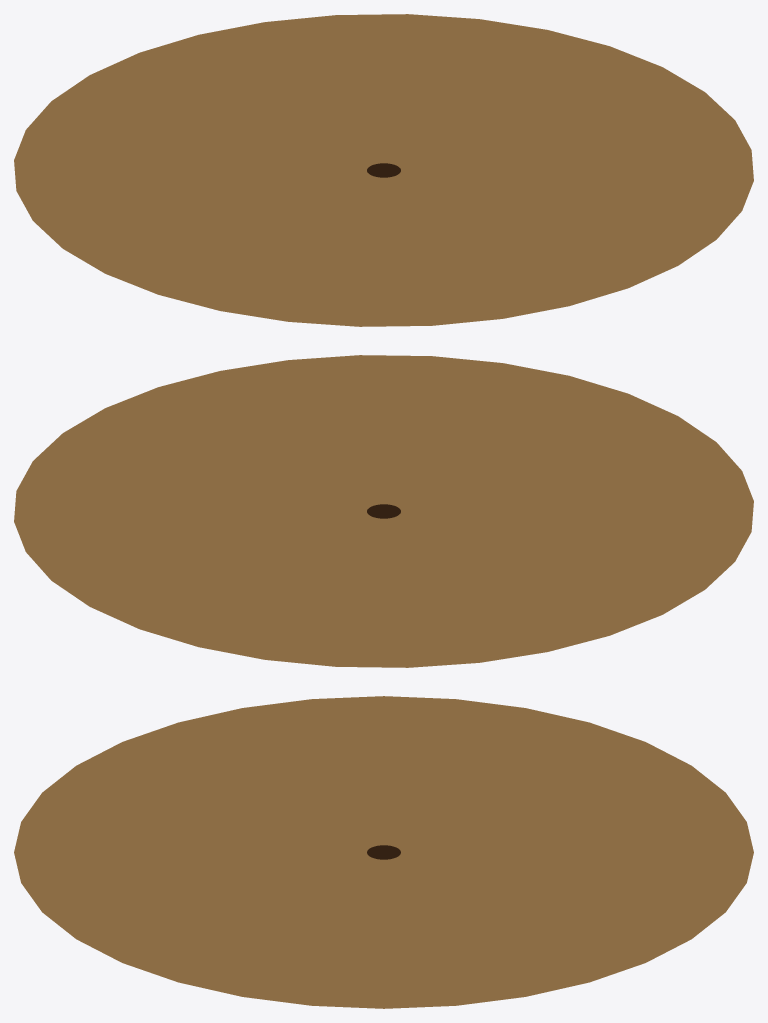
Rendered from floor_walkable.fbx.
3 renders of one model, top to bottom at view 1: azimuth 30°, elevation 25°; view 2: azimuth 150°, elevation 25°; view 3: azimuth 270°, elevation 25°, orthographic.
Visible parts, largest first — view 1: Floor_Walkable; view 2: Floor_Walkable; view 3: Floor_Walkable.
Part boxes in pixels (x1,y1,x2,y2): Floor_Walkable: (14,14,753,326); Floor_Walkable: (14,355,753,667); Floor_Walkable: (14,696,753,1008).
Bounding box in the file's own units: 10690 × 0.00174 × 10690.
